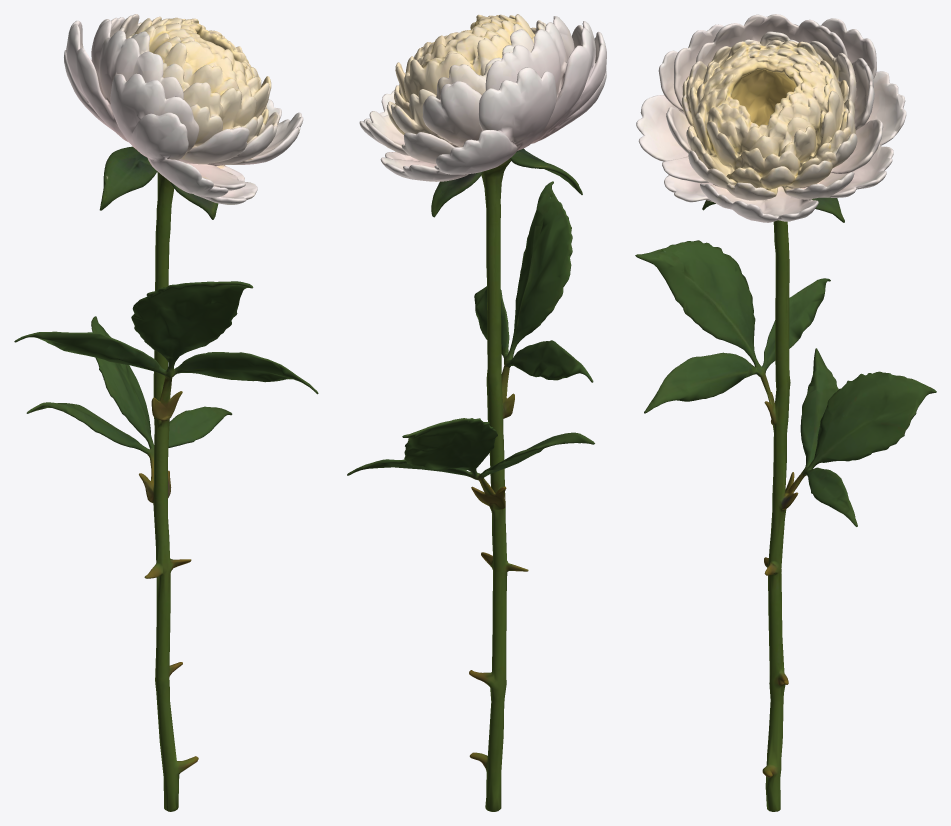
Rendered from WhitePeony.glb.
3 renders of one model, left to right at view 1: azimuth 30°, elevation 25°; view 2: azimuth 150°, elevation 25°; view 3: azimuth 270°, elevation 25°, orthographic. The views are drawn at different scales.
Visible parts, largest first — view 1: tripo_node_87089d09-2c43-440d-aff9-6bb8ca9ff486; view 2: tripo_node_87089d09-2c43-440d-aff9-6bb8ca9ff486; view 3: tripo_node_87089d09-2c43-440d-aff9-6bb8ca9ff486.
Boxes of the visible parts, bbox=[...] form: tripo_node_87089d09-2c43-440d-aff9-6bb8ca9ff486: bbox=[14, 14, 318, 811]; tripo_node_87089d09-2c43-440d-aff9-6bb8ca9ff486: bbox=[347, 14, 606, 811]; tripo_node_87089d09-2c43-440d-aff9-6bb8ca9ff486: bbox=[635, 14, 936, 811].
Bounding box in the file's own units: 0.3288 × 0.9999 × 0.353.
1 material, 1 textured.
